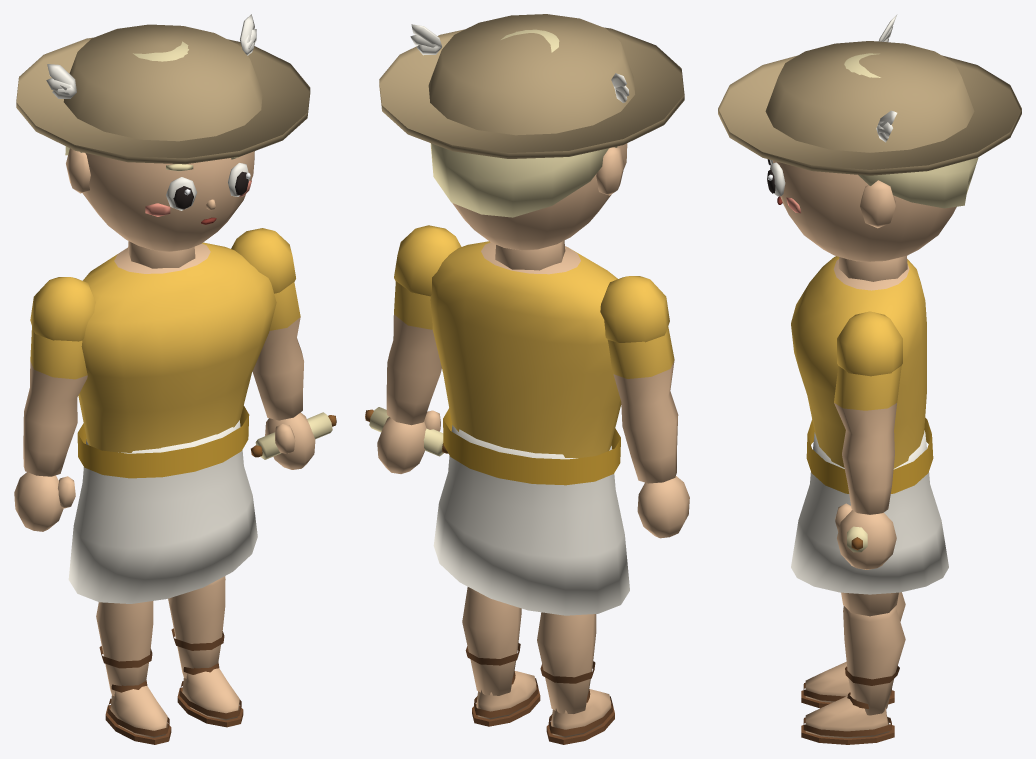
The model's file is bote.glb.
3 views of the same model, side by side, from view 1: azimuth 30°, elevation 25°; view 2: azimuth 150°, elevation 25°; view 3: azimuth 270°, elevation 25° (orthographic). The views are drawn at different scales.
Visible parts, largest first — view 1: rumpf, kopfschmuck, huefte, armL, kopf, armR, knieL, knieR, itemR, augeL, augeR, haare; view 2: rumpf, kopfschmuck, huefte, armL, armR, haare, kopf, knieL, knieR, itemR; view 3: kopfschmuck, rumpf, armR, kopf, huefte, knieR, haare, knieL, beinR.
Part boxes in pixels (box(x1,y1,x2,y2)): rumpf: box(77, 242, 276, 478); kopfschmuck: box(16, 14, 310, 164); huefte: box(68, 420, 257, 603); armL: box(14, 277, 95, 531); kopf: box(66, 148, 254, 268); armR: box(231, 228, 315, 469); knieL: box(96, 601, 171, 744); knieR: box(168, 576, 243, 727); itemR: box(251, 412, 336, 459); augeL: box(166, 177, 197, 210); augeR: box(227, 163, 250, 196); haare: box(65, 41, 188, 155); rumpf: box(430, 241, 621, 485); kopfschmuck: box(379, 14, 684, 158); huefte: box(433, 425, 629, 615); armL: box(600, 276, 689, 538); armR: box(377, 225, 461, 473); haare: box(430, 29, 617, 217); kopf: box(452, 143, 627, 270); knieL: box(537, 612, 614, 744); knieR: box(462, 587, 540, 726); itemR: box(365, 407, 448, 456); kopfschmuck: box(718, 14, 1021, 175); rumpf: box(791, 256, 933, 493); armR: box(834, 311, 902, 569); kopf: box(773, 160, 956, 281); huefte: box(791, 430, 948, 594); knieR: box(801, 606, 905, 744); haare: box(844, 53, 978, 208); knieL: box(801, 592, 905, 708); beinR: box(841, 592, 898, 616).
Size of the model in its own units: 1.13 by 2.29 by 0.96.
